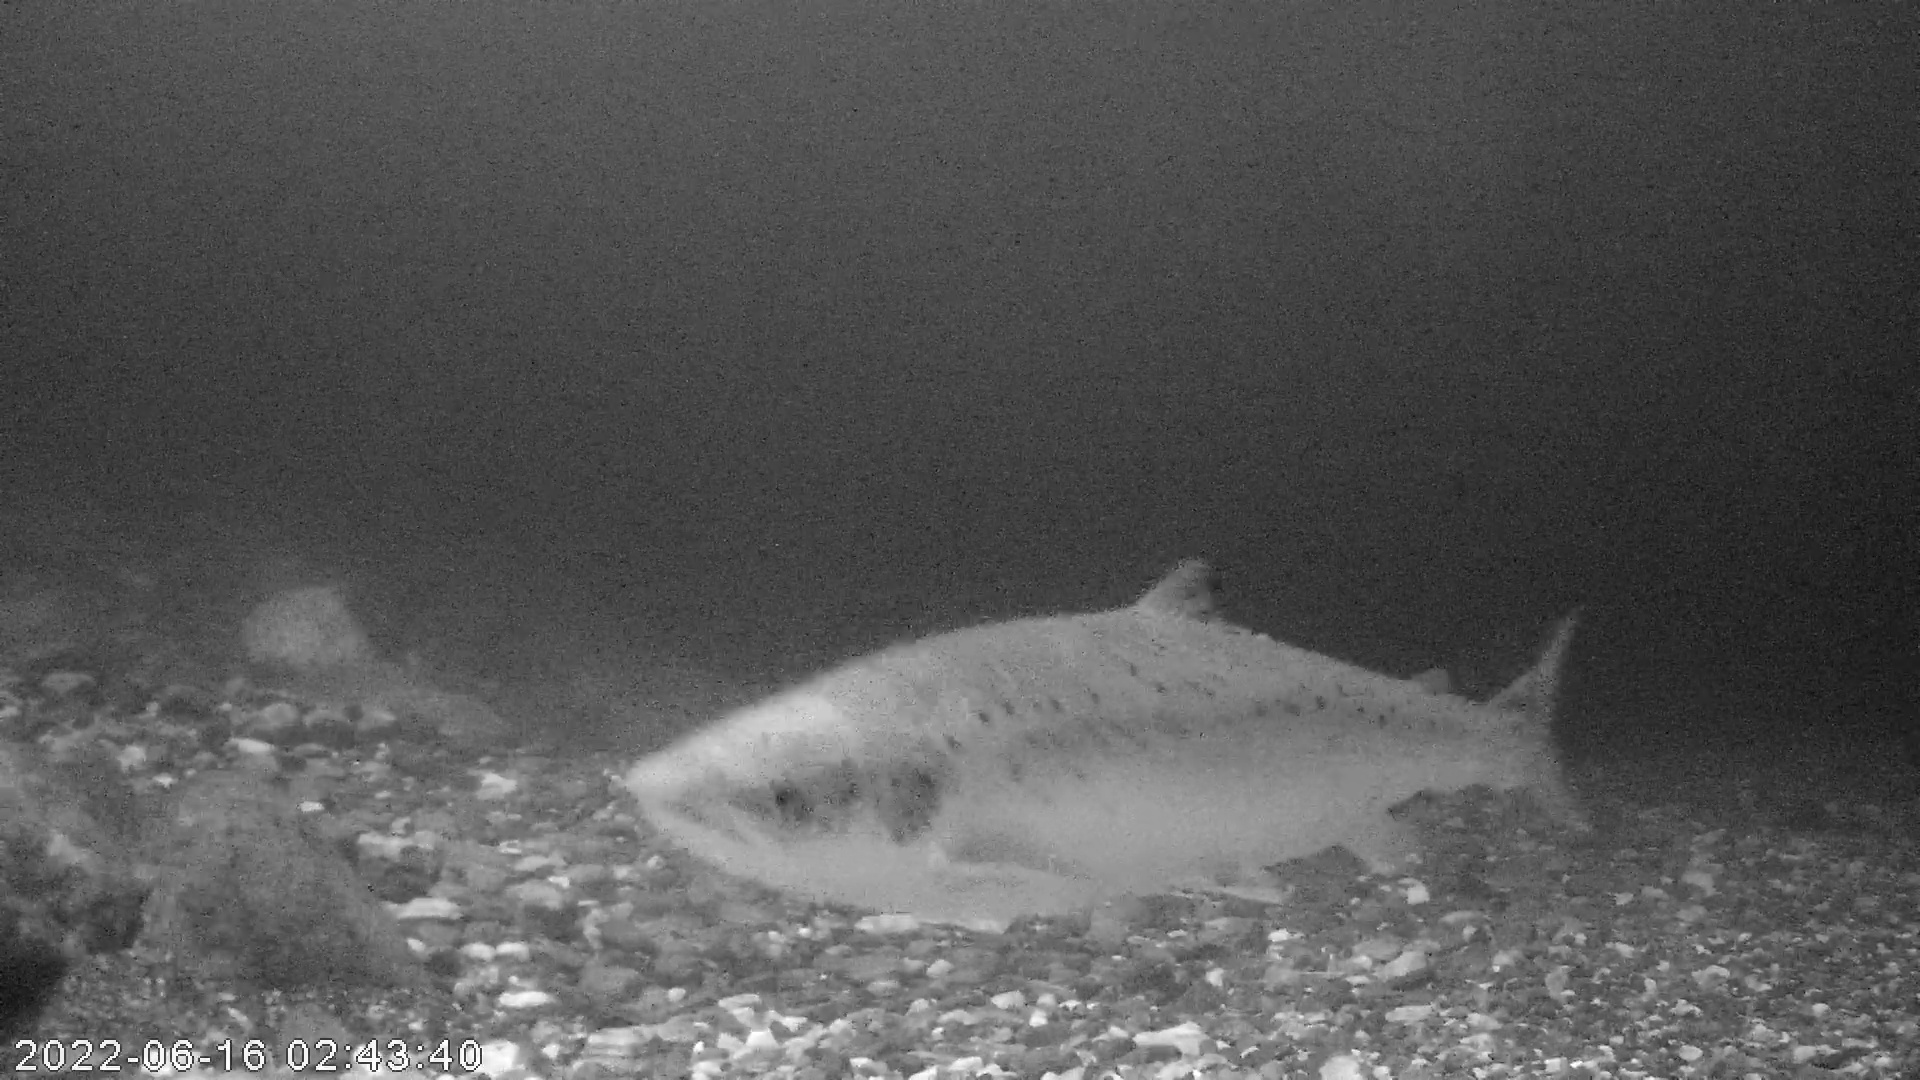salmon: (624, 555, 1596, 927)
